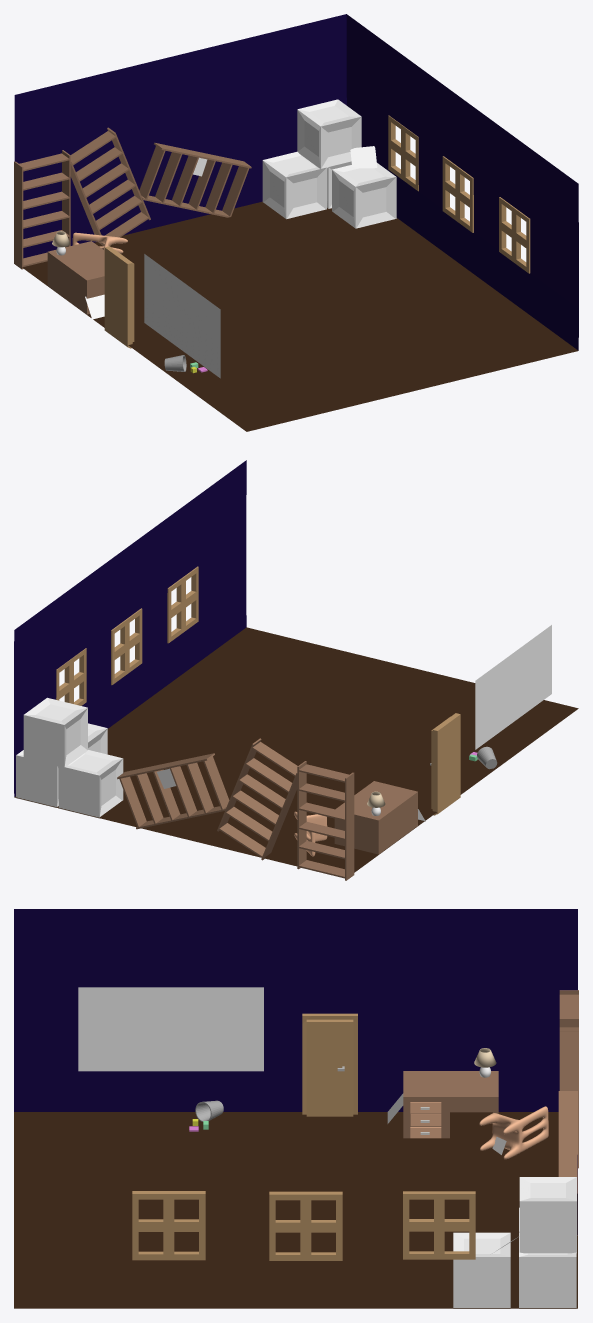
The model's file is room.glb.
3 renders of one model, top to bottom at view 1: azimuth 30°, elevation 25°; view 2: azimuth 150°, elevation 25°; view 3: azimuth 270°, elevation 25°, orthographic. The views are drawn at different scales.
Visible parts, largest first — view 1: Cube-col, Plane.004, Shelves1-col, Shelves1.001-col, Shelves1.002-col, Cube.003-col, Cube.005-col, Cube.004-col, Cube.001-col, Door-col, Window.002-col, Window.001-col (+2 smaller); view 2: Cube-col, Plane.004, Shelves1.001-col, Shelves1.002-col, Shelves1-col, Cube.003-col, Cube.001-col, Cube.005-col, Door-col, Cube.002-col, Window.002-col, Window.001-col (+2 smaller); view 3: Cube-col, Plane.004, Door-col, Cube.001-col, Cube.003-col, Cube.004-col, Window.001-col, Window.002-col, Cube.002-col, Window-col, Cube.006-col, Shelves1-col (+2 smaller).
Part boxes in pixels (left/top/right/bottom): Cube-col: left=14, top=14, right=578, bottom=431; Plane.004: left=144, top=254, right=220, bottom=378; Shelves1-col: left=139, top=142, right=251, bottom=217; Shelves1.001-col: left=70, top=127, right=150, bottom=245; Shelves1.002-col: left=14, top=150, right=70, bottom=269; Cube.003-col: left=297, top=99, right=361, bottom=168; Cube.005-col: left=262, top=151, right=326, bottom=219; Cube.004-col: left=332, top=163, right=396, bottom=228; Cube.001-col: left=47, top=241, right=104, bottom=314; Door-col: left=104, top=246, right=134, bottom=348; Window.002-col: left=499, top=197, right=530, bottom=273; Window.001-col: left=442, top=156, right=473, bottom=232; Cube-col: left=14, top=460, right=578, bottom=872; Plane.004: left=475, top=625, right=551, bottom=749; Shelves1.001-col: left=217, top=738, right=297, bottom=860; Shelves1.002-col: left=297, top=761, right=354, bottom=880; Shelves1-col: left=117, top=753, right=229, bottom=829; Cube.003-col: left=23, top=697, right=87, bottom=767; Cube.001-col: left=334, top=781, right=417, bottom=854; Cube.005-col: left=58, top=750, right=123, bottom=818; Door-col: left=430, top=713, right=460, bottom=815; Cube.002-col: left=16, top=750, right=58, bottom=807; Window.002-col: left=167, top=566, right=198, bottom=643; Window.001-col: left=111, top=608, right=142, bottom=685; Cube-col: left=14, top=909, right=577, bottom=1308; Plane.004: left=78, top=987, right=263, bottom=1071; Door-col: left=302, top=1013, right=357, bottom=1116; Cube.001-col: left=403, top=1071, right=498, bottom=1138; Cube.003-col: left=519, top=1177, right=576, bottom=1253; Cube.004-col: left=453, top=1232, right=510, bottom=1308; Window.001-col: left=269, top=1191, right=342, bottom=1260; Window.002-col: left=132, top=1191, right=205, bottom=1260; Cube.002-col: left=519, top=1232, right=576, bottom=1308; Window-col: left=403, top=1191, right=475, bottom=1259; Cube.006-col: left=479, top=1106, right=548, bottom=1159; Shelves1-col: left=558, top=1091, right=577, bottom=1235.
Size of the model in its own units: 10.18 by 4.99 by 12.17.
